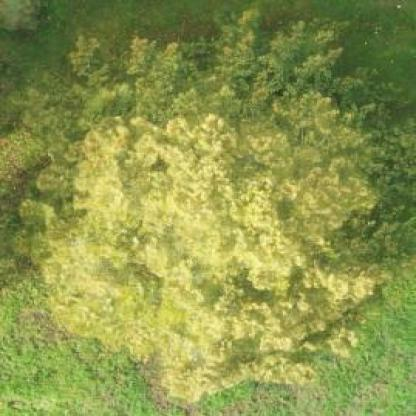Deciduous Tree: (23, 33, 405, 393)
